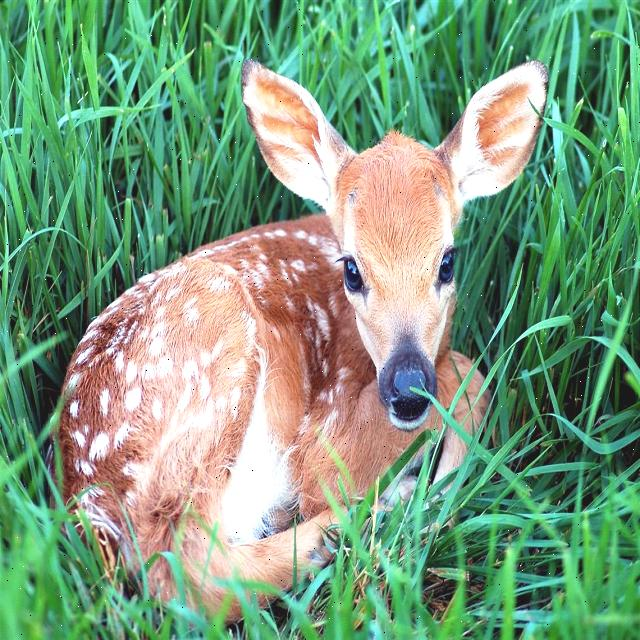deer: (37, 38, 562, 624)
